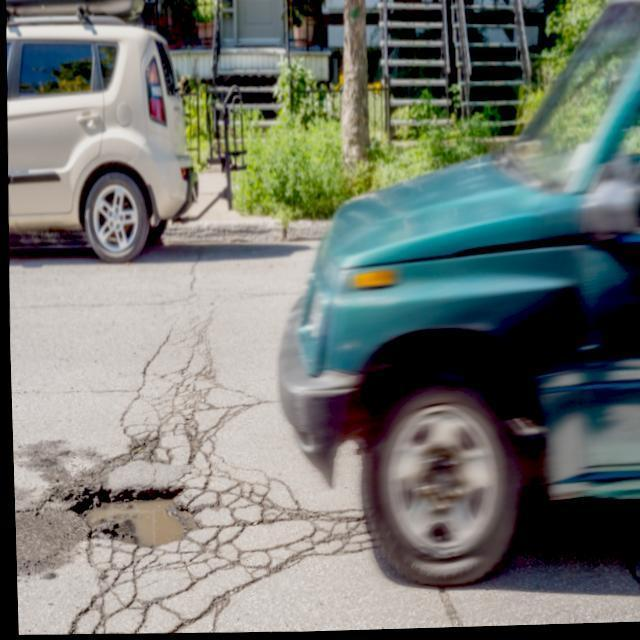Pothole: (75, 492, 195, 550)
